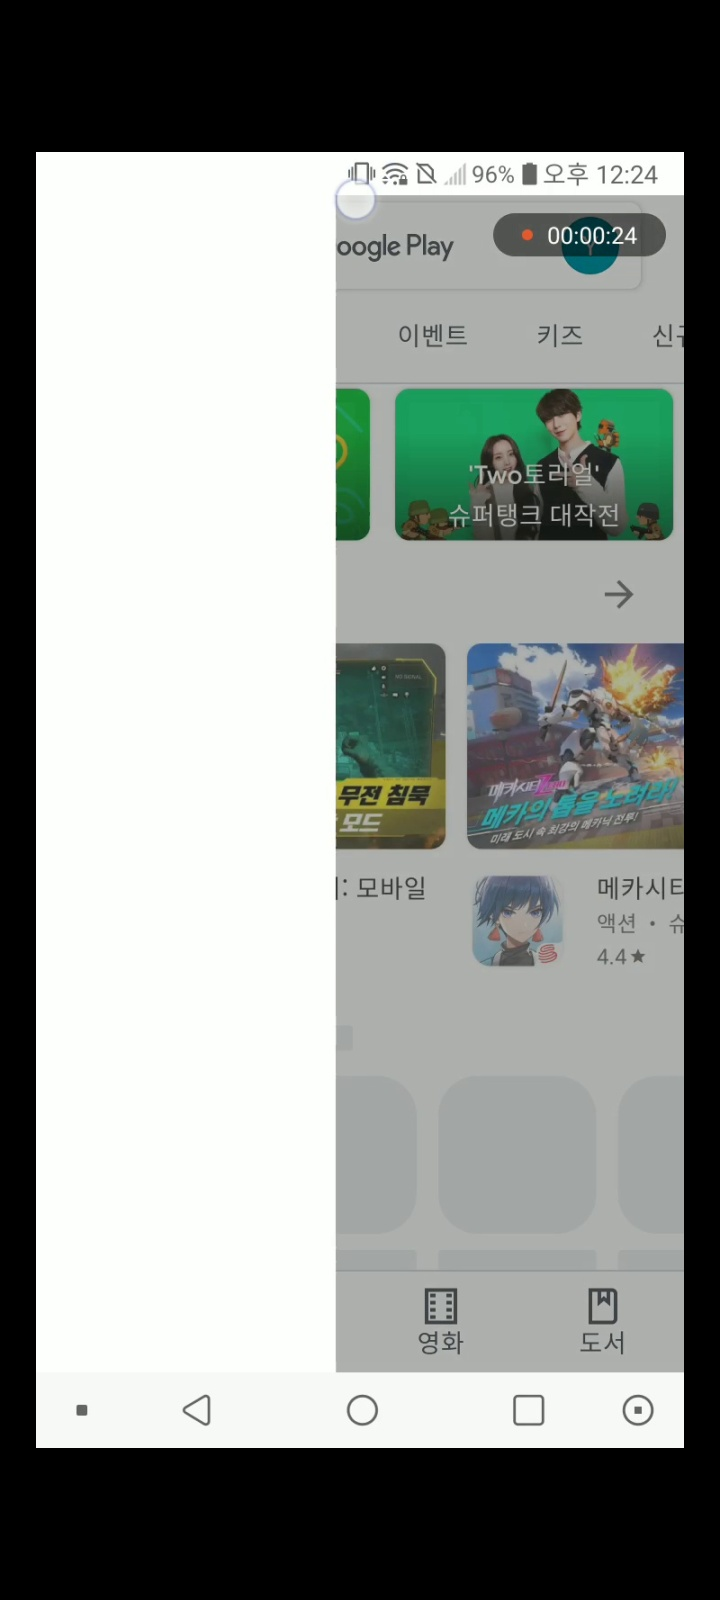Cursor: (335, 176, 380, 222)
